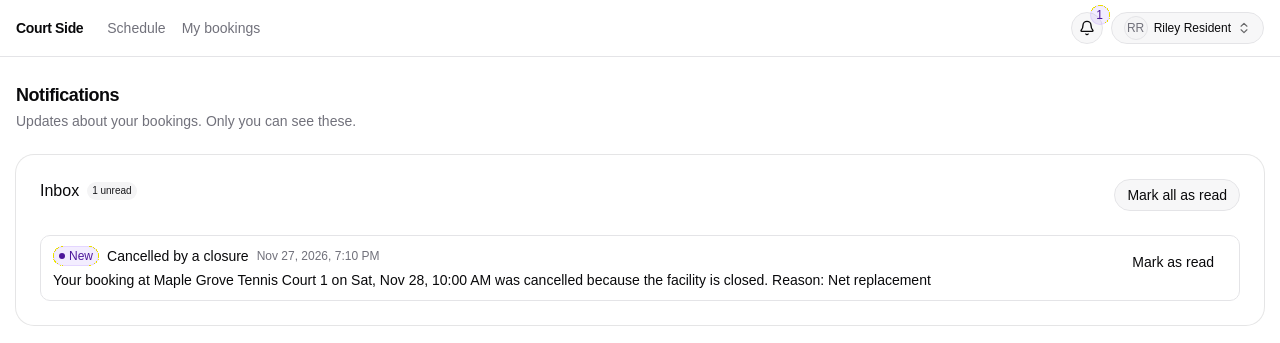
Test: notifications › marks one notification read and refreshes the count
Click the button with aria-label "Mark as read: Cancelled" at (1173, 262), box [1119, 246, 1227, 278]
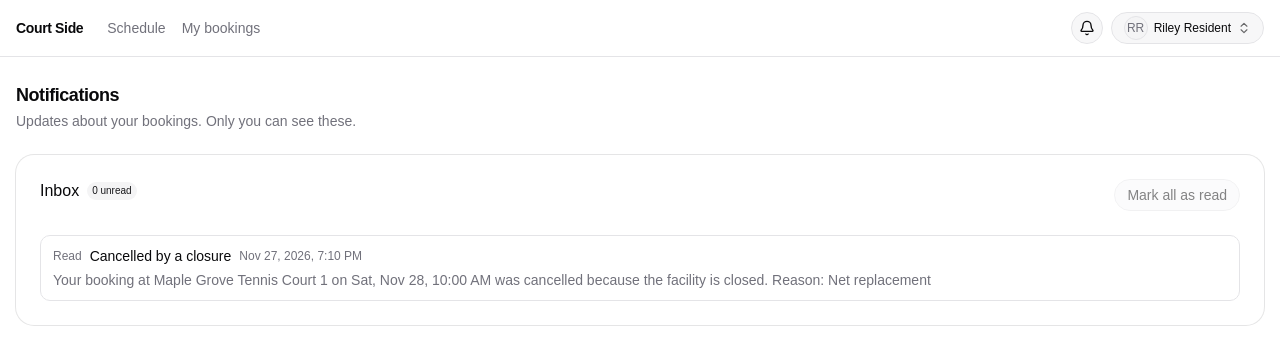
Expected: the button named "Notifications" is shown, [1071, 12, 1103, 44]
Expected: the button "Mark all as read" is disabled, [1114, 179, 1240, 211]
